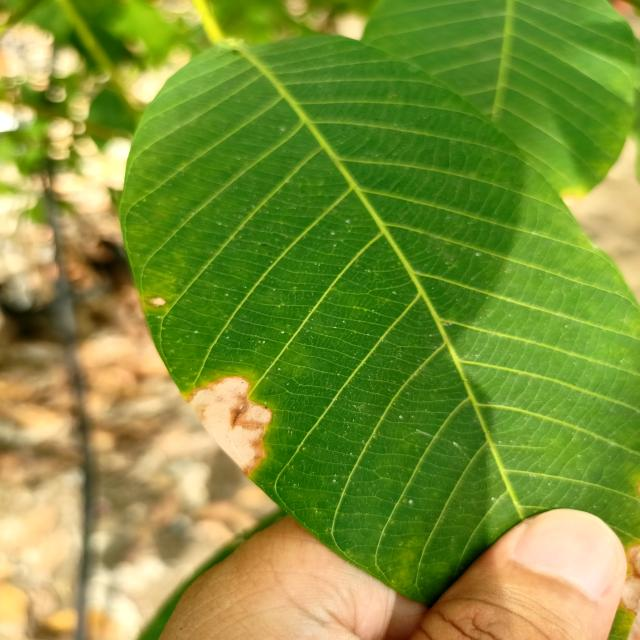Leaf-Blight: (186, 377, 272, 477)
